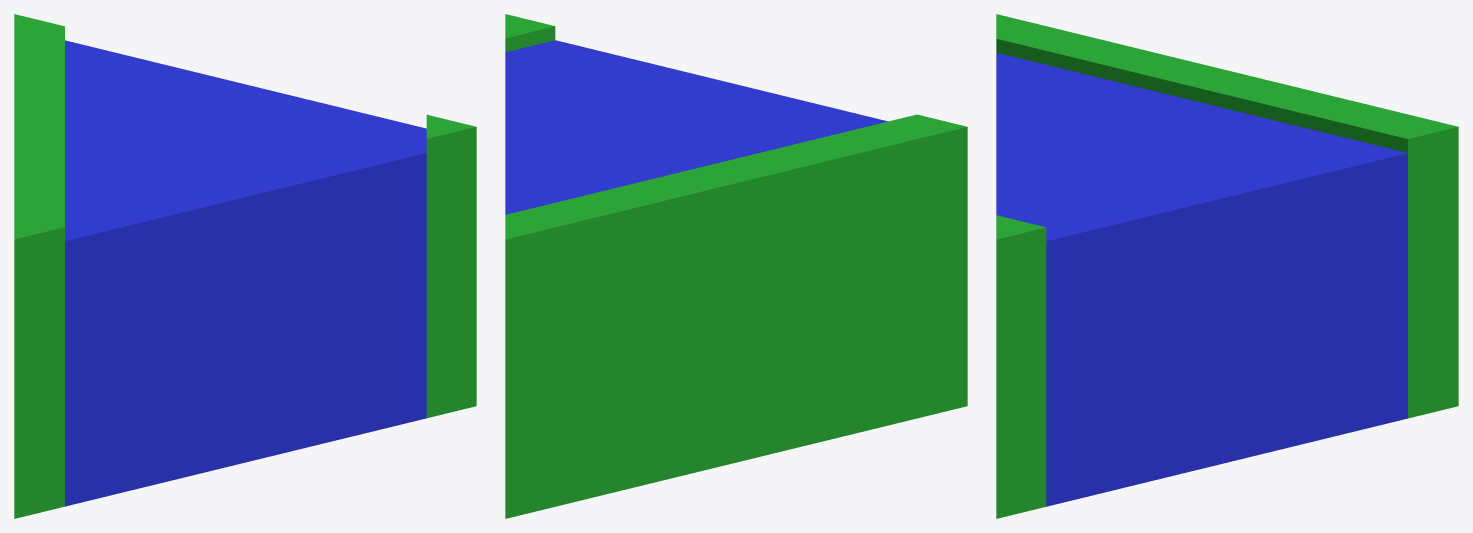
File: river_face.glb
3 views of the same model, side by side, from view 1: azimuth 30°, elevation 25°; view 2: azimuth 150°, elevation 25°; view 3: azimuth 270°, elevation 25° (orthographic).
Visible parts, largest first — view 1: river_face; view 2: river_face; view 3: river_face.
Boxes of the visible parts, <box> form: river_face: <box>14,14,476,518</box>; river_face: <box>505,14,967,518</box>; river_face: <box>996,14,1458,518</box>.
Bounding box in the file's own units: 0.866 × 0.5 × 0.75.
